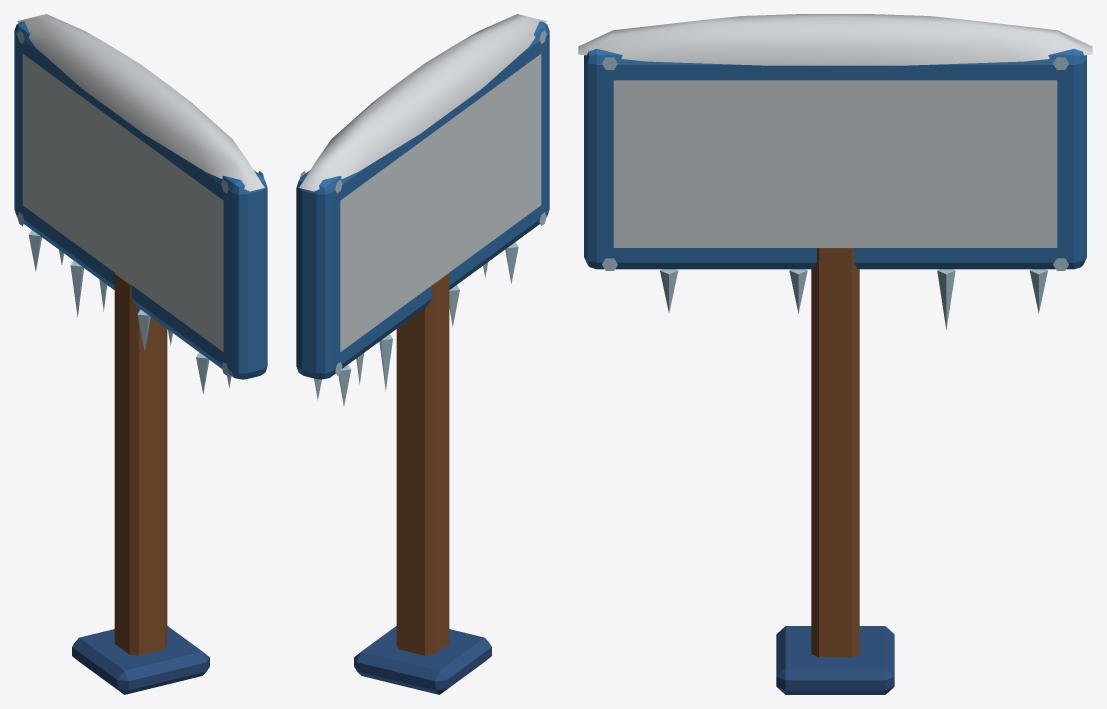
The model's file is ice-sign.glb.
The picture shows the model from 3 angles, left to right: view 1: azimuth 30°, elevation 25°; view 2: azimuth 150°, elevation 25°; view 3: azimuth 270°, elevation 25°; orthographic projection. The views are drawn at different scales.
Parts seen in each view (by area): view 1: ice-sign; view 2: ice-sign; view 3: ice-sign.
Part boxes in pixels (bbox=[...]): ice-sign: bbox=[14, 14, 267, 694]; ice-sign: bbox=[296, 14, 549, 694]; ice-sign: bbox=[578, 14, 1092, 694].
Bounding box in the file's own units: 0.32 × 1.96 × 1.39.
